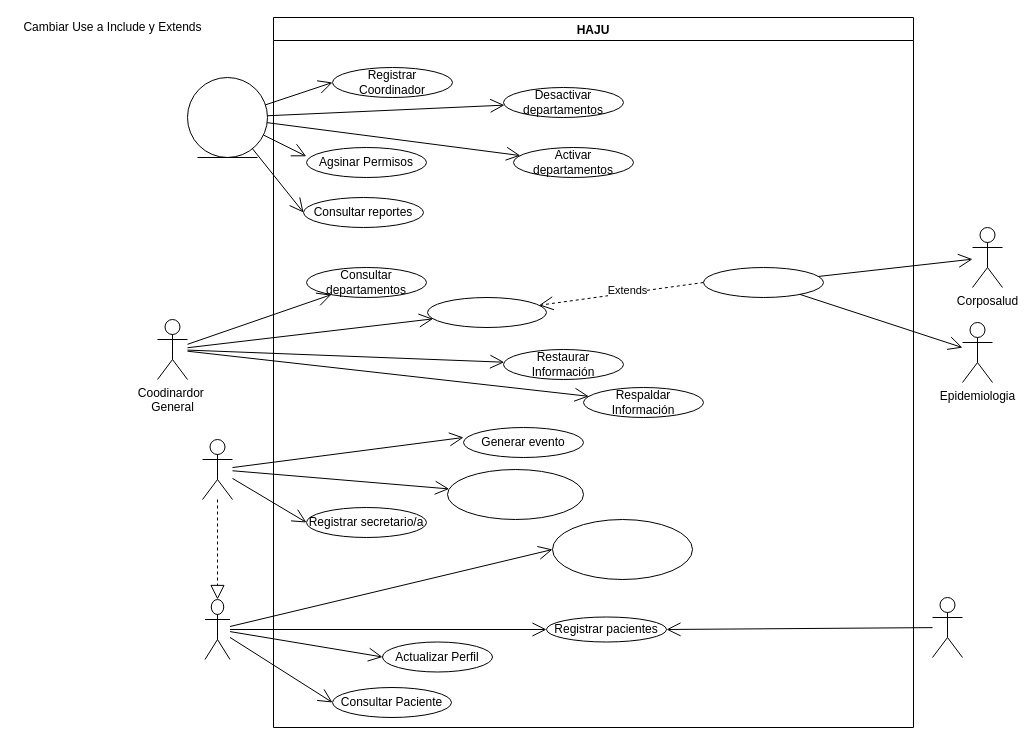
This 1035x745 diagram has some shape labels left out. The shapes that lost their labels are listed below. From the top down, each one's centre as x and y in pixels, then its label:
At point (227, 117): "Director(a)".
At point (763, 282): "Exportar Reporte".
At point (486, 312): "Generar reportes".
At point (217, 469): "Coordinador por Departamento".
At point (515, 494): "Desactivar o Activar Secretario/a".
At point (622, 549): "Generar reporte del departamaento correspondiente".
At point (217, 629): "Secretaria".
At point (947, 627): "Paciente".
